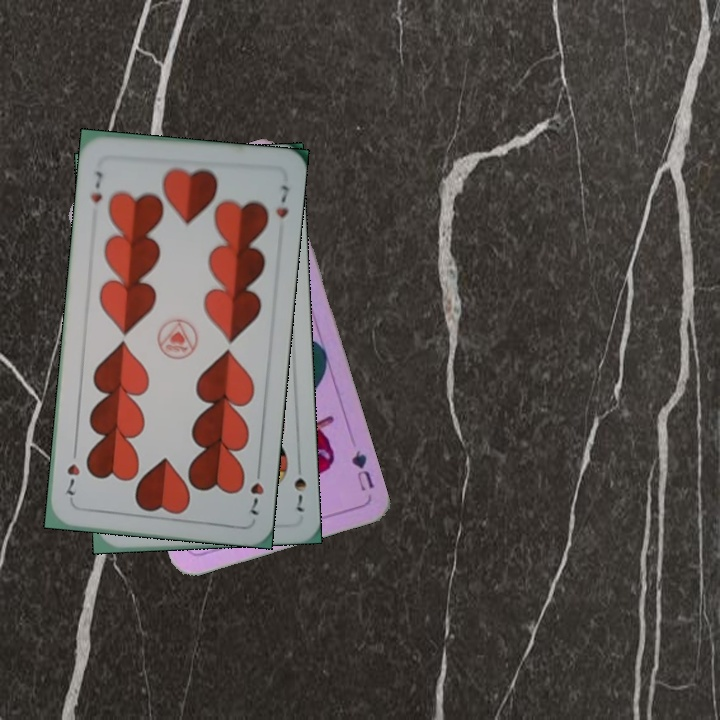GU: (347, 446, 376, 494)
H7: (245, 462, 267, 518), (87, 167, 105, 206)
S7: (290, 458, 309, 514)
